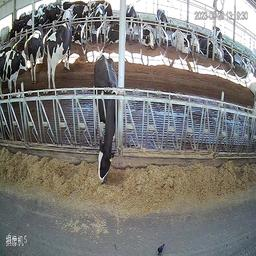cow: (90, 51, 118, 185), (45, 21, 74, 88), (0, 48, 27, 95), (24, 22, 43, 84), (170, 25, 194, 58), (89, 0, 114, 25), (154, 6, 169, 47), (139, 21, 157, 54), (195, 32, 214, 61), (126, 2, 138, 44), (94, 3, 104, 48), (211, 22, 224, 53), (106, 20, 119, 47), (70, 5, 89, 23), (44, 4, 61, 23), (222, 50, 237, 69), (78, 25, 88, 47)
